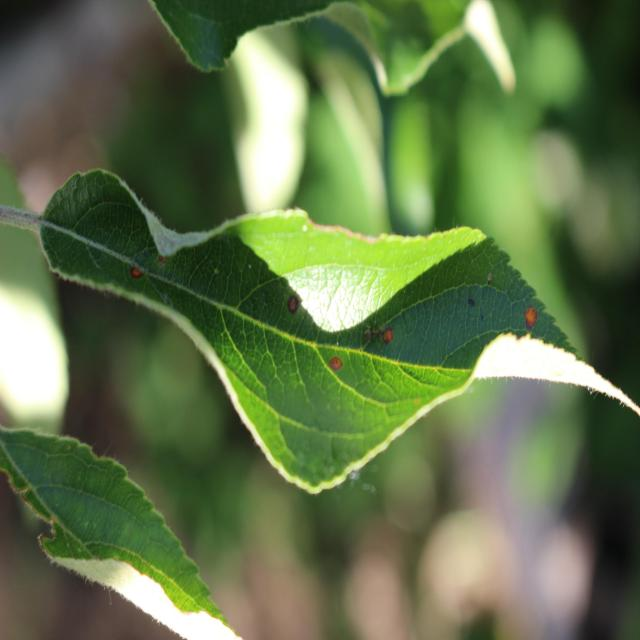Rust: (283, 276, 309, 340), (114, 252, 156, 288), (318, 340, 348, 380), (375, 320, 410, 352), (517, 293, 536, 339)
